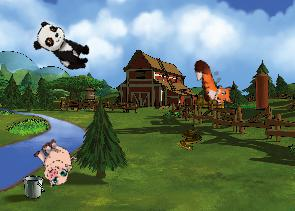fox: (191, 53, 239, 112)
panda: (29, 18, 96, 75)
pig: (26, 134, 82, 190)
